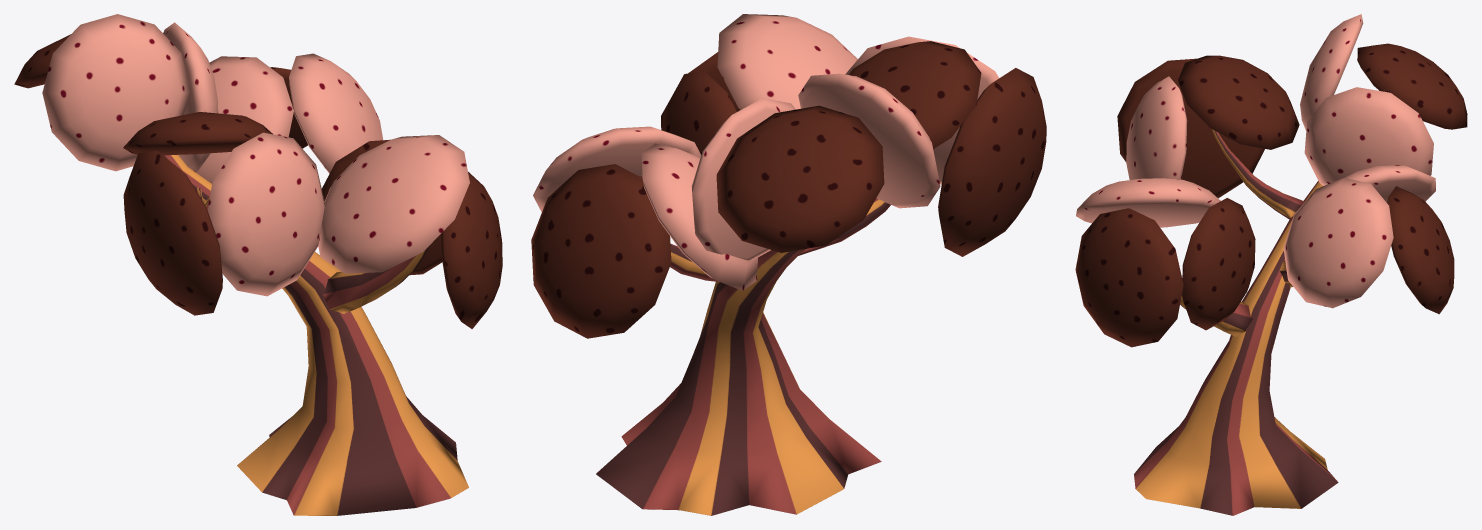
File: tree_candy2.fbx
3 views of the same model, side by side, from view 1: azimuth 30°, elevation 25°; view 2: azimuth 150°, elevation 25°; view 3: azimuth 270°, elevation 25° (orthographic). The views are drawn at different scales.
Visible parts, largest first — view 1: tree_candy2; view 2: tree_candy2; view 3: tree_candy2.
Boxes of the visible parts, <box> form: tree_candy2: <box>14,14,502,515</box>; tree_candy2: <box>531,14,1046,515</box>; tree_candy2: <box>1075,14,1467,515</box>.
Bounding box in the file's own units: 720 × 878 × 821.
